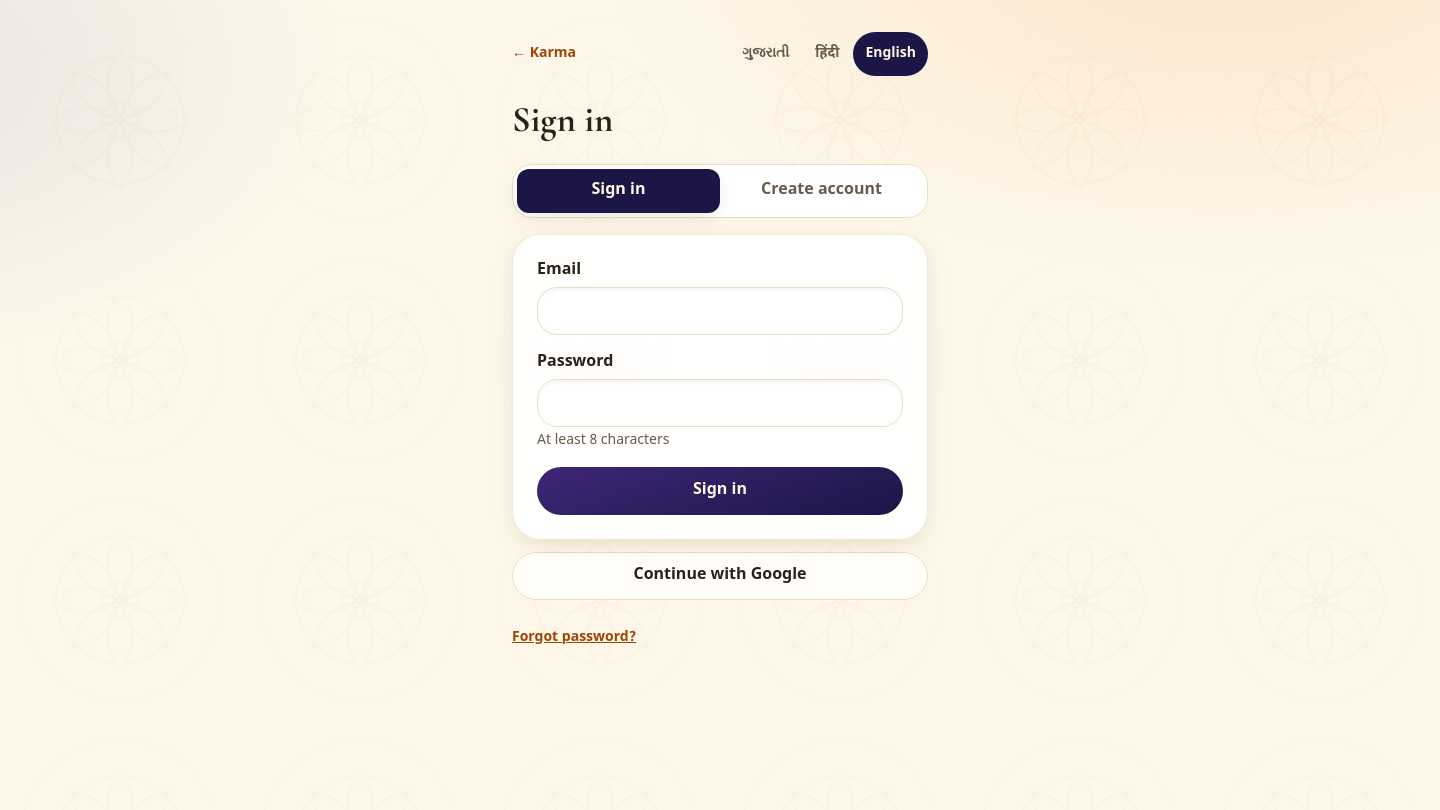
Scenario: Karma app (demo mode) › keeps email sign-in and registration on the real account path
Type "person@example.com" into the field labelled "Email" at [720, 311], box [537,287,903,335]
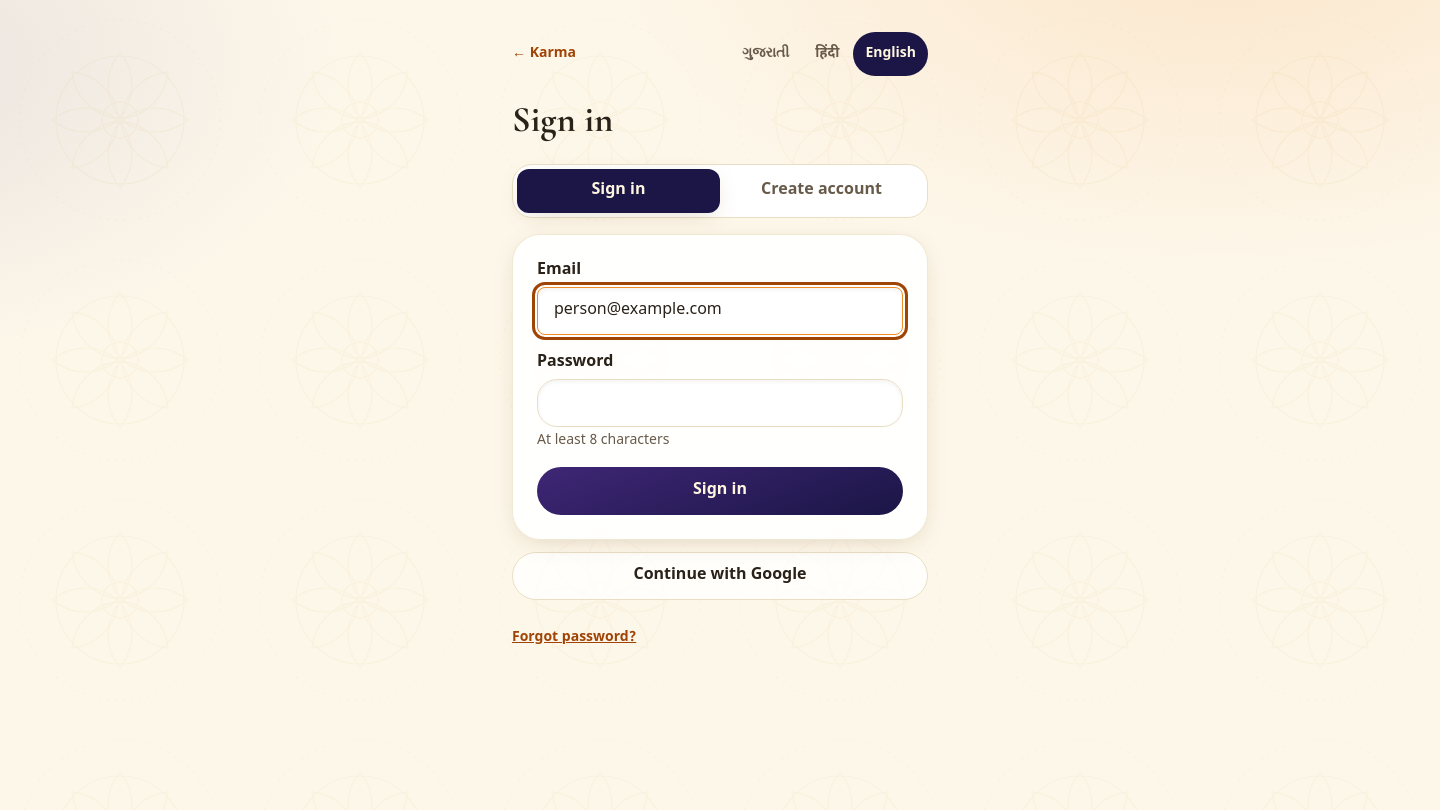
Type "password123" into the password field labelled "Password" at [720, 403], box [537,379,903,427]
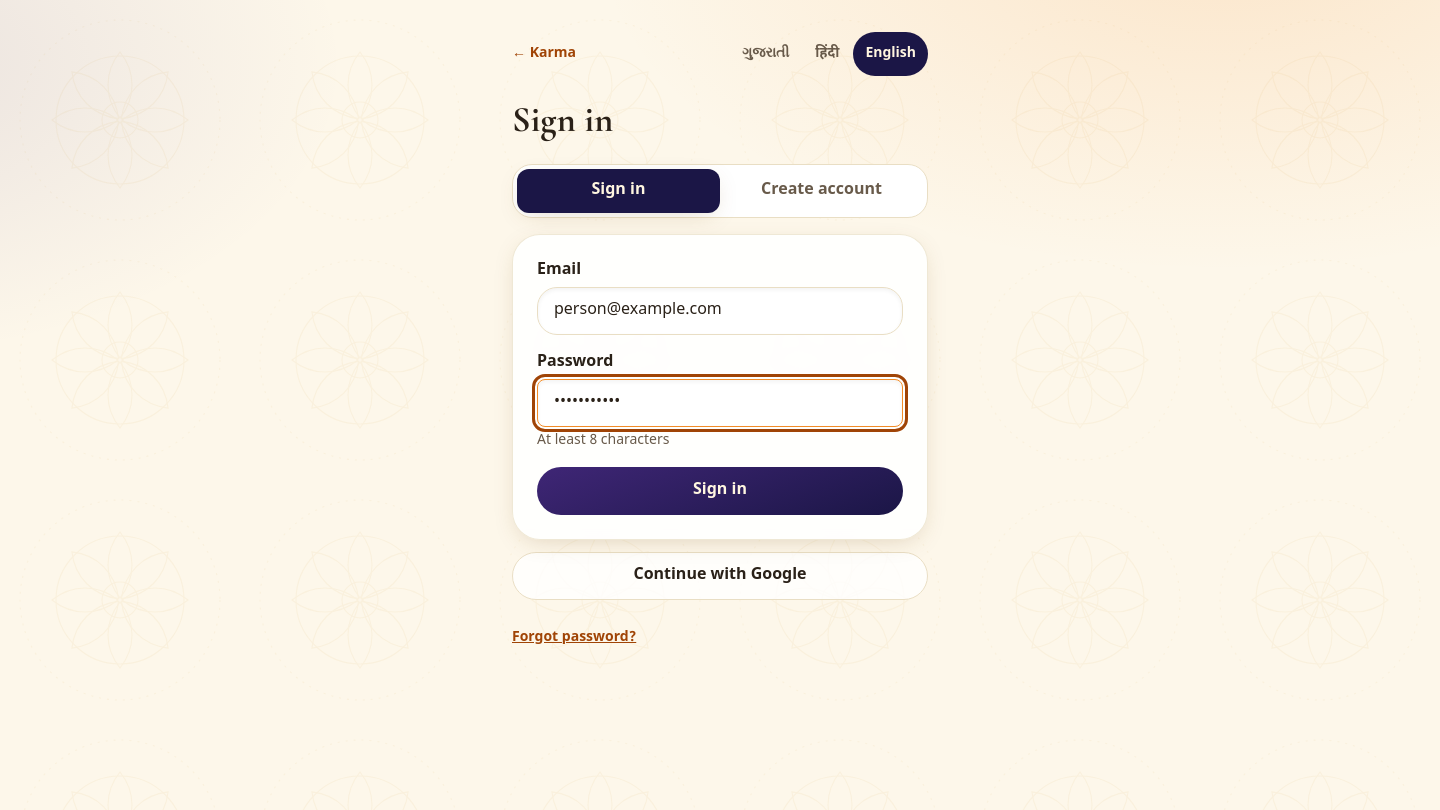
Click the button "Sign in" below "At least 8 characters" at [720, 491], box [537,467,903,515]
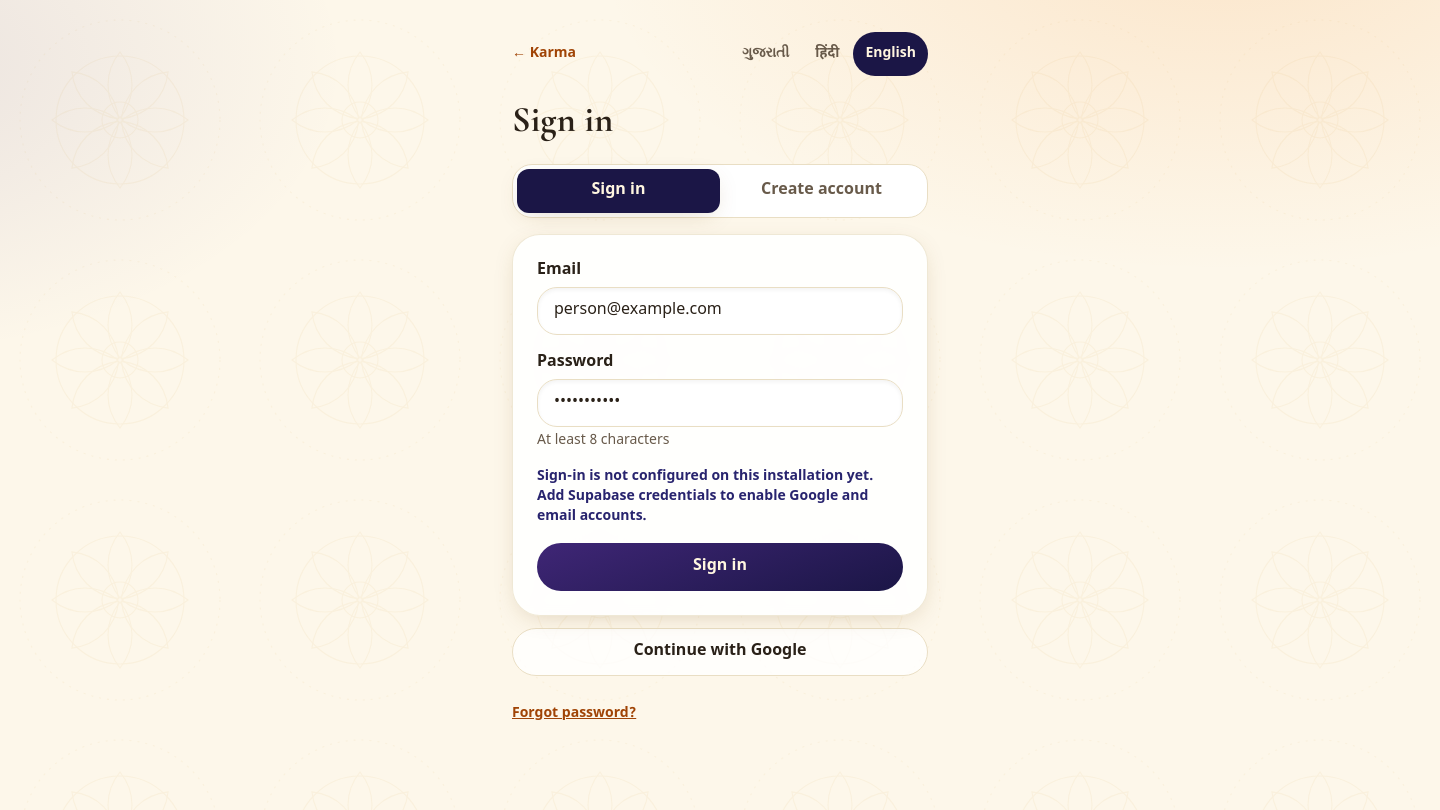
Result: the message shows "Sign-in is not configured" at [537,467,873,526]
